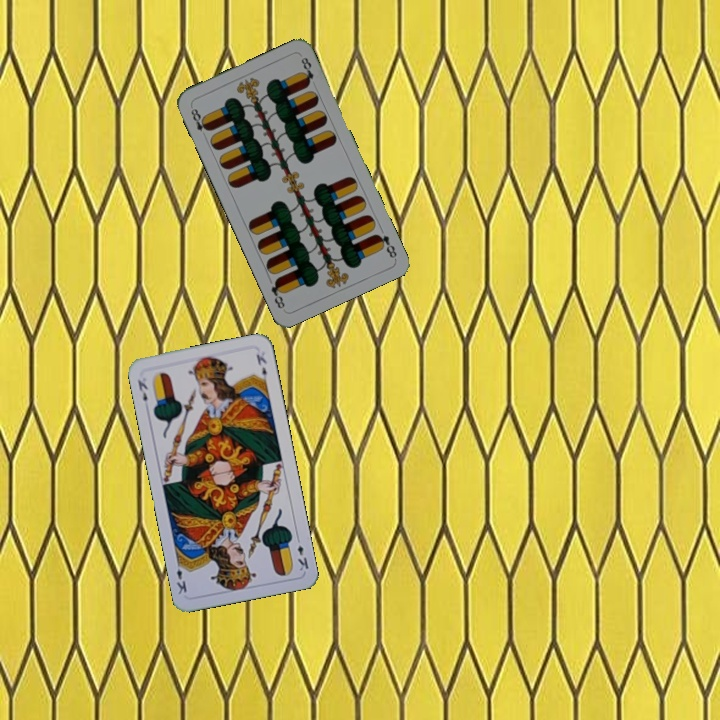E8: (371, 230, 399, 261), (187, 102, 212, 134)
EK: (292, 532, 311, 573), (133, 376, 151, 404)
